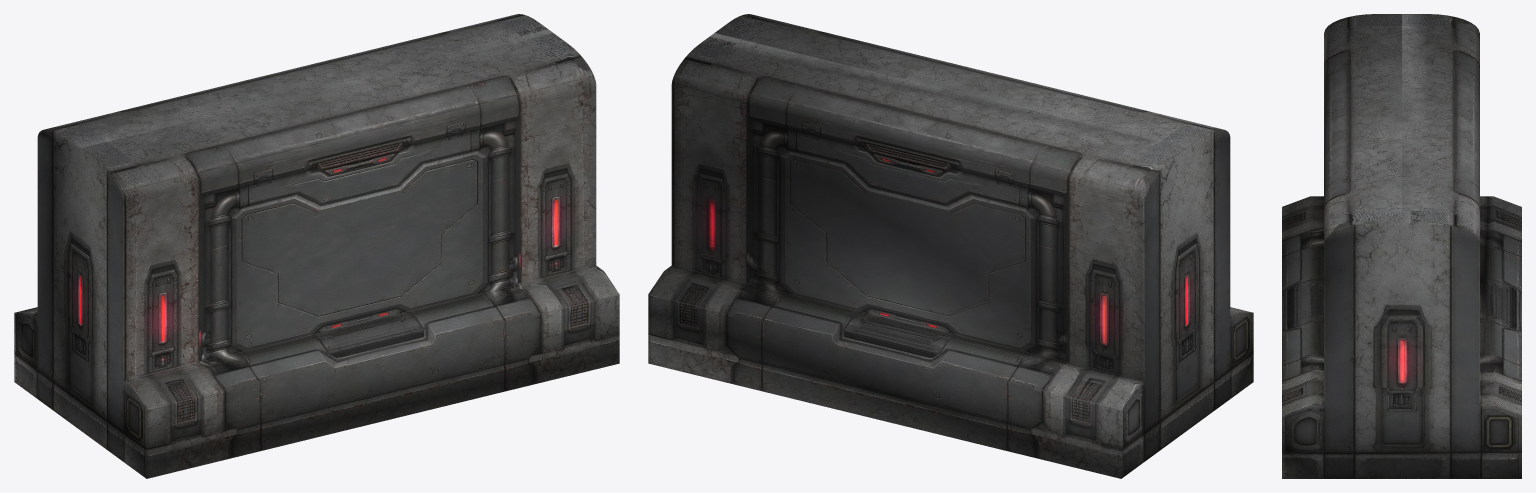
File: prop_wall_door.glb
3 renders of one model, left to right at view 1: azimuth 30°, elevation 25°; view 2: azimuth 150°, elevation 25°; view 3: azimuth 270°, elevation 25°, orthographic. The views are drawn at different scales.
Parts seen in each view (by area): view 1: Mesh_0; view 2: Mesh_0; view 3: Mesh_0.
Boxes of the visible parts, box(x1,y1,x2,y2) form: Mesh_0: box(14, 14, 619, 478); Mesh_0: box(648, 14, 1253, 478); Mesh_0: box(1282, 14, 1521, 478).
Bounding box in the file's own units: 2 × 1.14 × 0.9695.
1 material, 1 textured.
